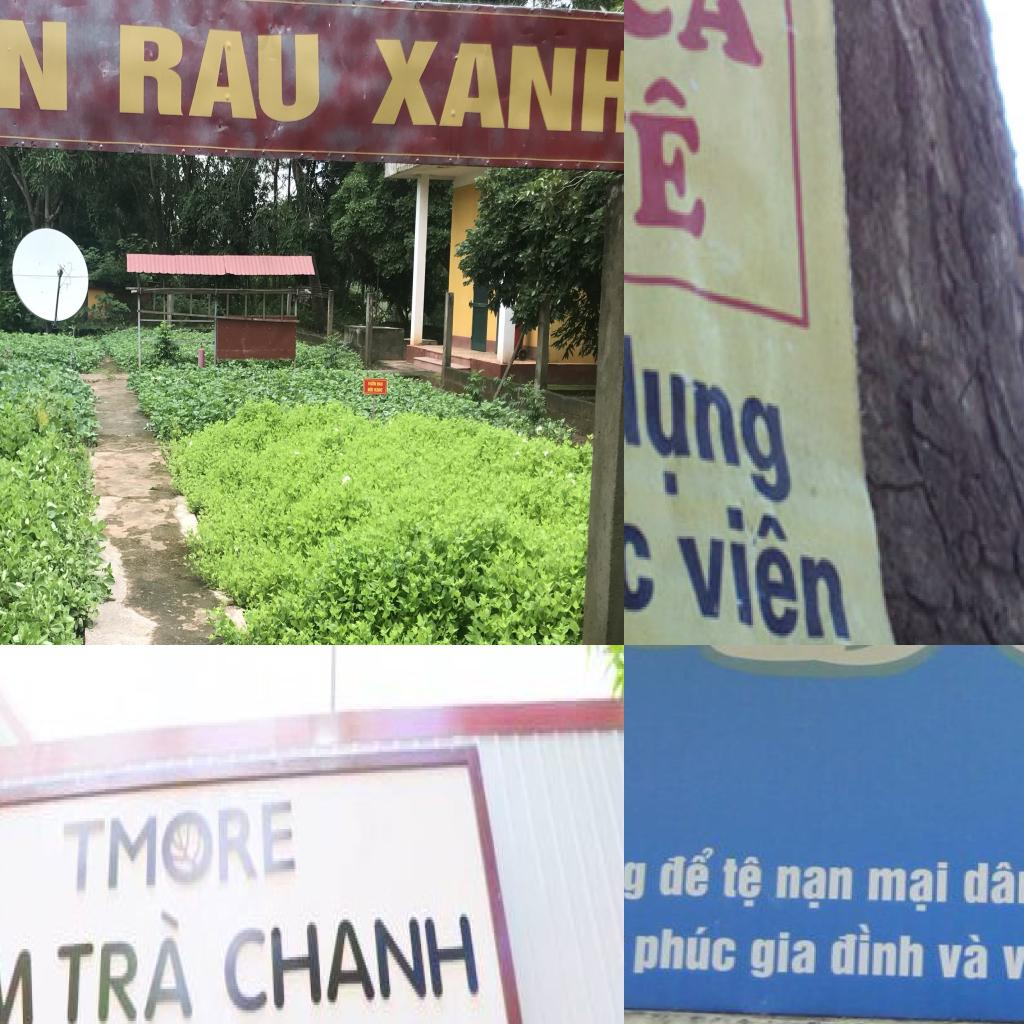text: (624, 319, 798, 518), (366, 15, 624, 147), (115, 5, 328, 133), (59, 794, 301, 904), (624, 45, 716, 256), (46, 903, 201, 1024), (624, 0, 777, 84), (632, 925, 742, 981), (828, 922, 930, 980), (624, 473, 663, 620), (866, 860, 952, 914), (773, 862, 857, 912), (748, 928, 821, 984), (657, 845, 717, 899), (961, 859, 1024, 906), (934, 932, 992, 982), (720, 854, 766, 910), (624, 849, 651, 903), (996, 935, 1024, 985), (367, 380, 377, 387), (367, 386, 374, 394), (377, 381, 384, 387)
